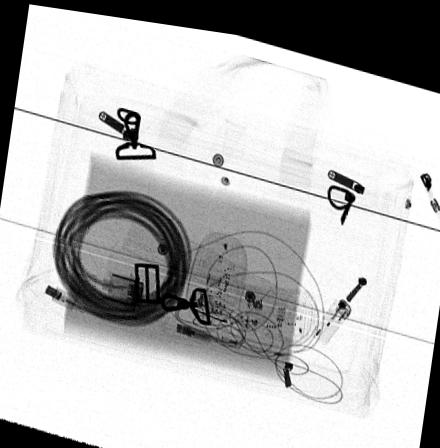Lighter: (314, 288, 352, 337)
